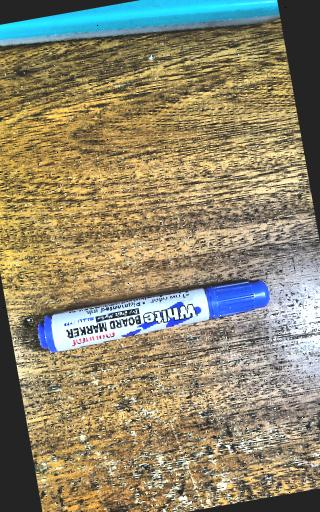marcador azul: (38, 280, 270, 352)
